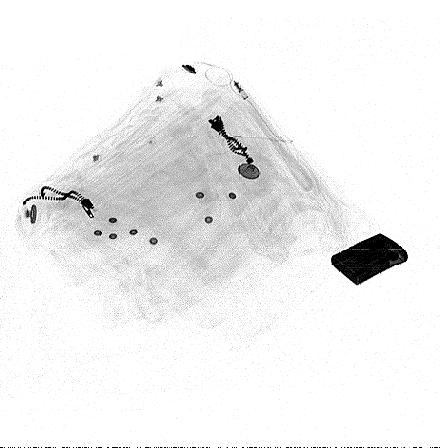Lighter: (330, 233, 409, 286)
